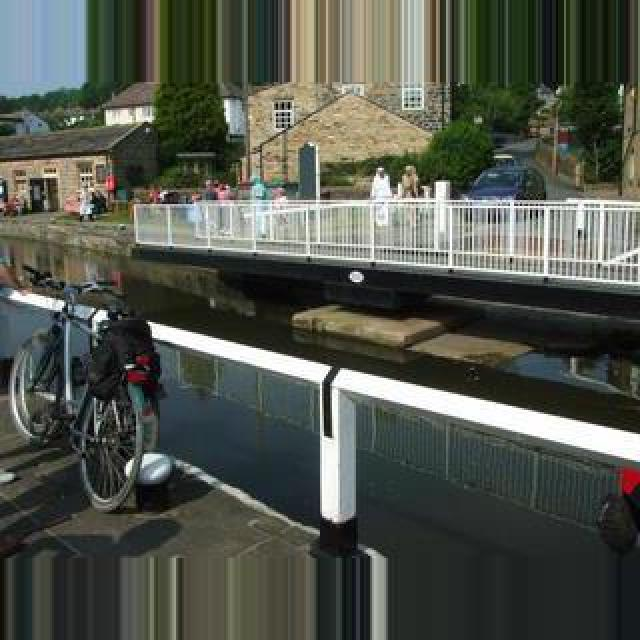Bus-Bike: (464, 166, 546, 220)
MC-Bike: (368, 166, 392, 228), (212, 180, 232, 238), (272, 186, 290, 232), (188, 190, 204, 238), (398, 166, 420, 200)
Person: (6, 264, 160, 508)
